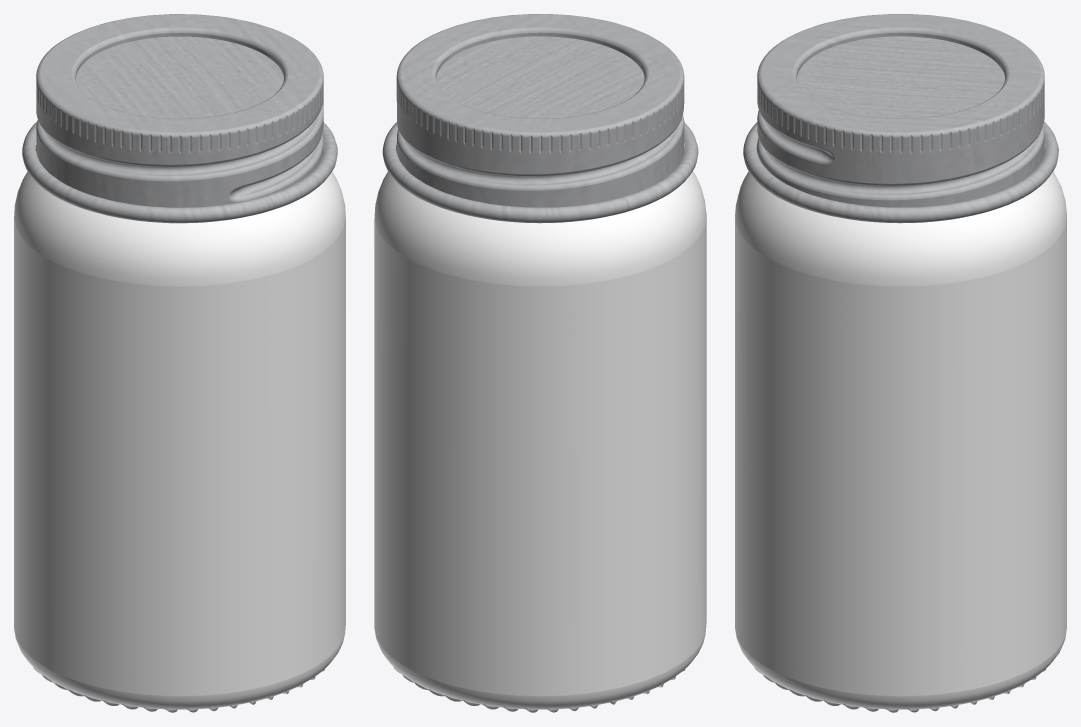
Rendered from guldfisk_pojemnik_na_przyprawy_00553208.glb.
3 views of the same model, side by side, from view 1: azimuth 30°, elevation 25°; view 2: azimuth 150°, elevation 25°; view 3: azimuth 270°, elevation 25° (orthographic).
Visible parts, largest first — view 1: guldfisk_pojemnik_na_przyprawy_00553208; view 2: guldfisk_pojemnik_na_przyprawy_00553208; view 3: guldfisk_pojemnik_na_przyprawy_00553208.
Part boxes in pixels (left/top/right/bottom): guldfisk_pojemnik_na_przyprawy_00553208: left=14, top=14, right=345, bottom=712; guldfisk_pojemnik_na_przyprawy_00553208: left=374, top=14, right=706, bottom=712; guldfisk_pojemnik_na_przyprawy_00553208: left=735, top=14, right=1066, bottom=712.
Size of the model in its own units: 0.042 by 0.0807 by 0.042.
Materials: 2 (2 with a texture image).
